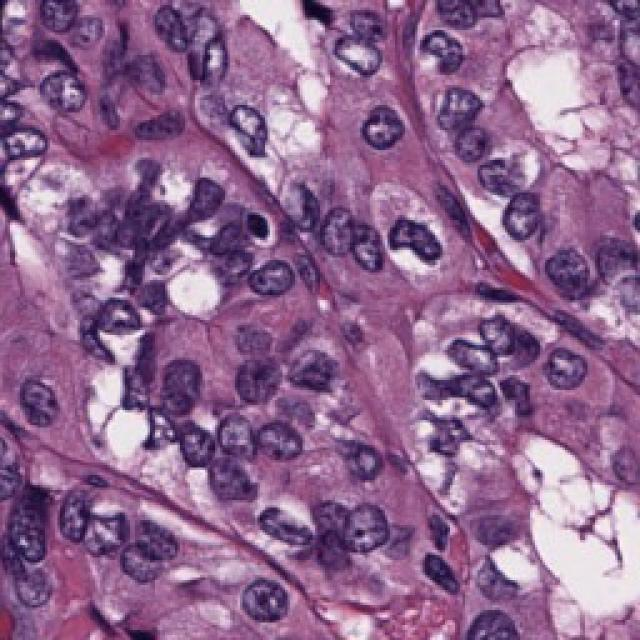abnormal: (330, 77, 420, 170), (213, 555, 312, 635), (0, 353, 83, 446), (213, 340, 302, 422), (330, 480, 408, 570), (314, 188, 389, 280), (487, 173, 560, 265), (422, 78, 518, 145), (283, 336, 362, 412), (18, 55, 94, 132), (256, 492, 332, 565), (218, 88, 285, 165), (235, 247, 313, 313), (433, 328, 505, 395), (328, 18, 387, 85), (540, 343, 595, 397)
